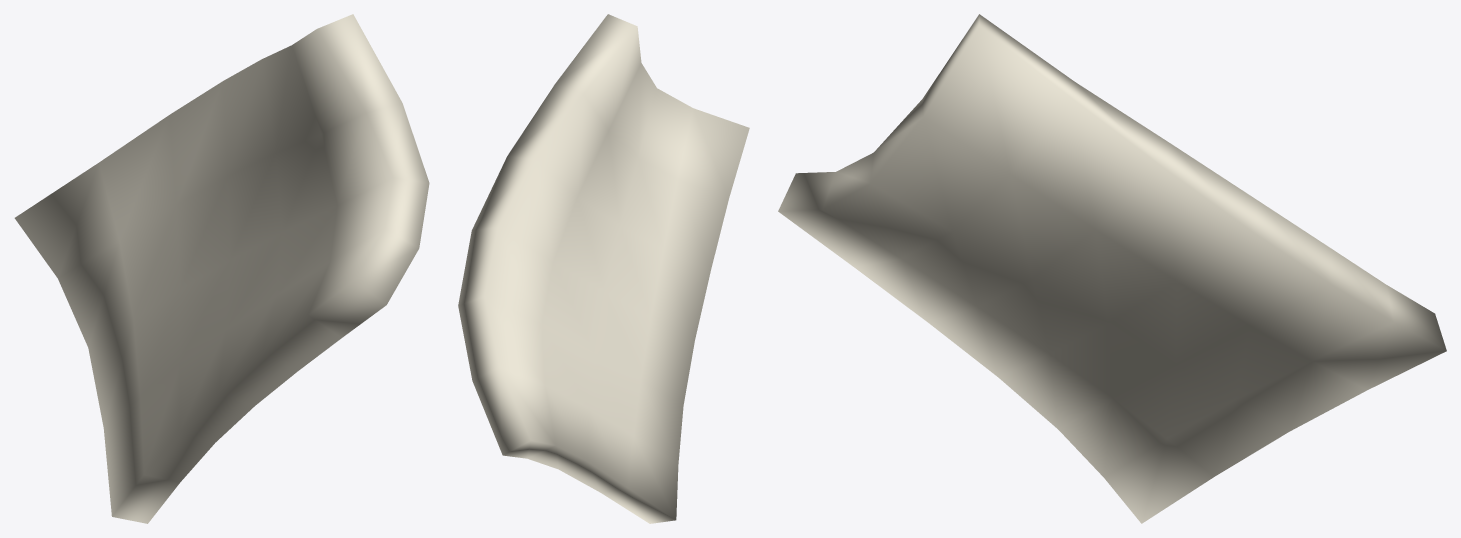
3 views of the same model, side by side, from view 1: azimuth 30°, elevation 25°; view 2: azimuth 150°, elevation 25°; view 3: azimuth 270°, elevation 25° (orthographic). The views are drawn at different scales.
Parts seen in each view (by area): view 1: ZA_9fe1de3c3e601ebb; view 2: ZA_9fe1de3c3e601ebb; view 3: ZA_9fe1de3c3e601ebb.
Boxes of the visible parts, x1,y1,x2,y2 form: ZA_9fe1de3c3e601ebb: (14, 14, 429, 523); ZA_9fe1de3c3e601ebb: (458, 14, 749, 523); ZA_9fe1de3c3e601ebb: (778, 14, 1446, 523).
Size of the model in its own units: 0.00809 by 0.0208 by 0.0224.
